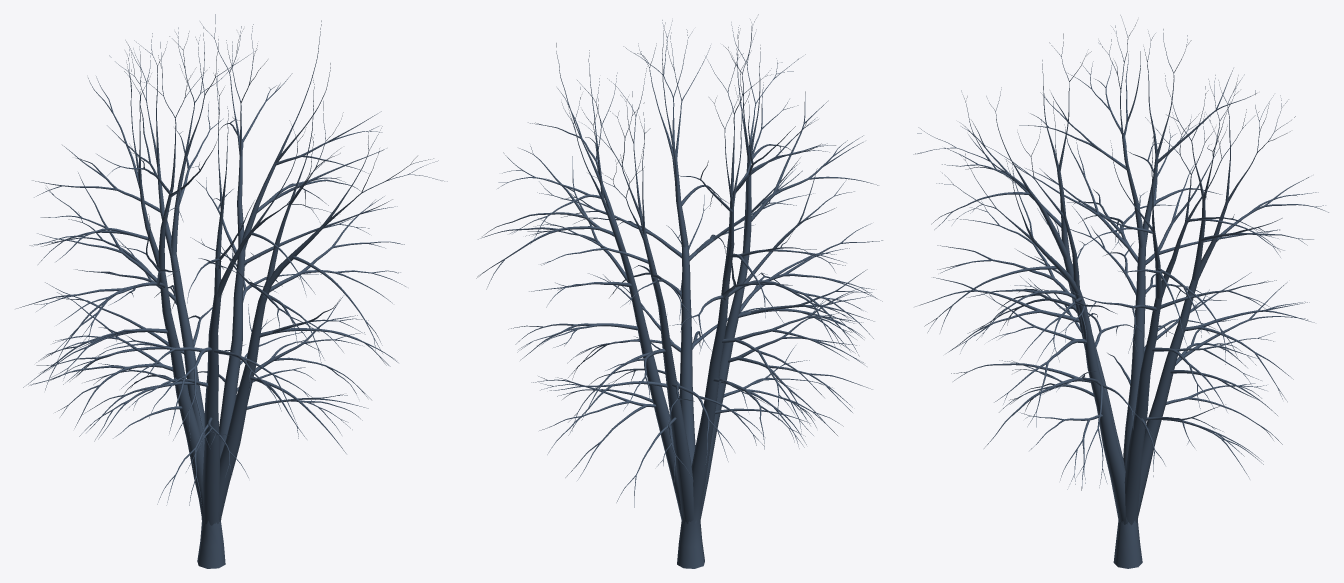
The model's file is tree1.fbx.
3 renders of one model, left to right at view 1: azimuth 30°, elevation 25°; view 2: azimuth 150°, elevation 25°; view 3: azimuth 270°, elevation 25°, orthographic.
Visible parts, largest first — view 1: tree; view 2: tree; view 3: tree.
Boxes of the visible parts, <box> form: tree: <box>16,14,447,568</box>; tree: <box>476,14,882,568</box>; tree: <box>913,15,1328,568</box>.
Bounding box in the file's own units: 1096 × 1556 × 1123.
